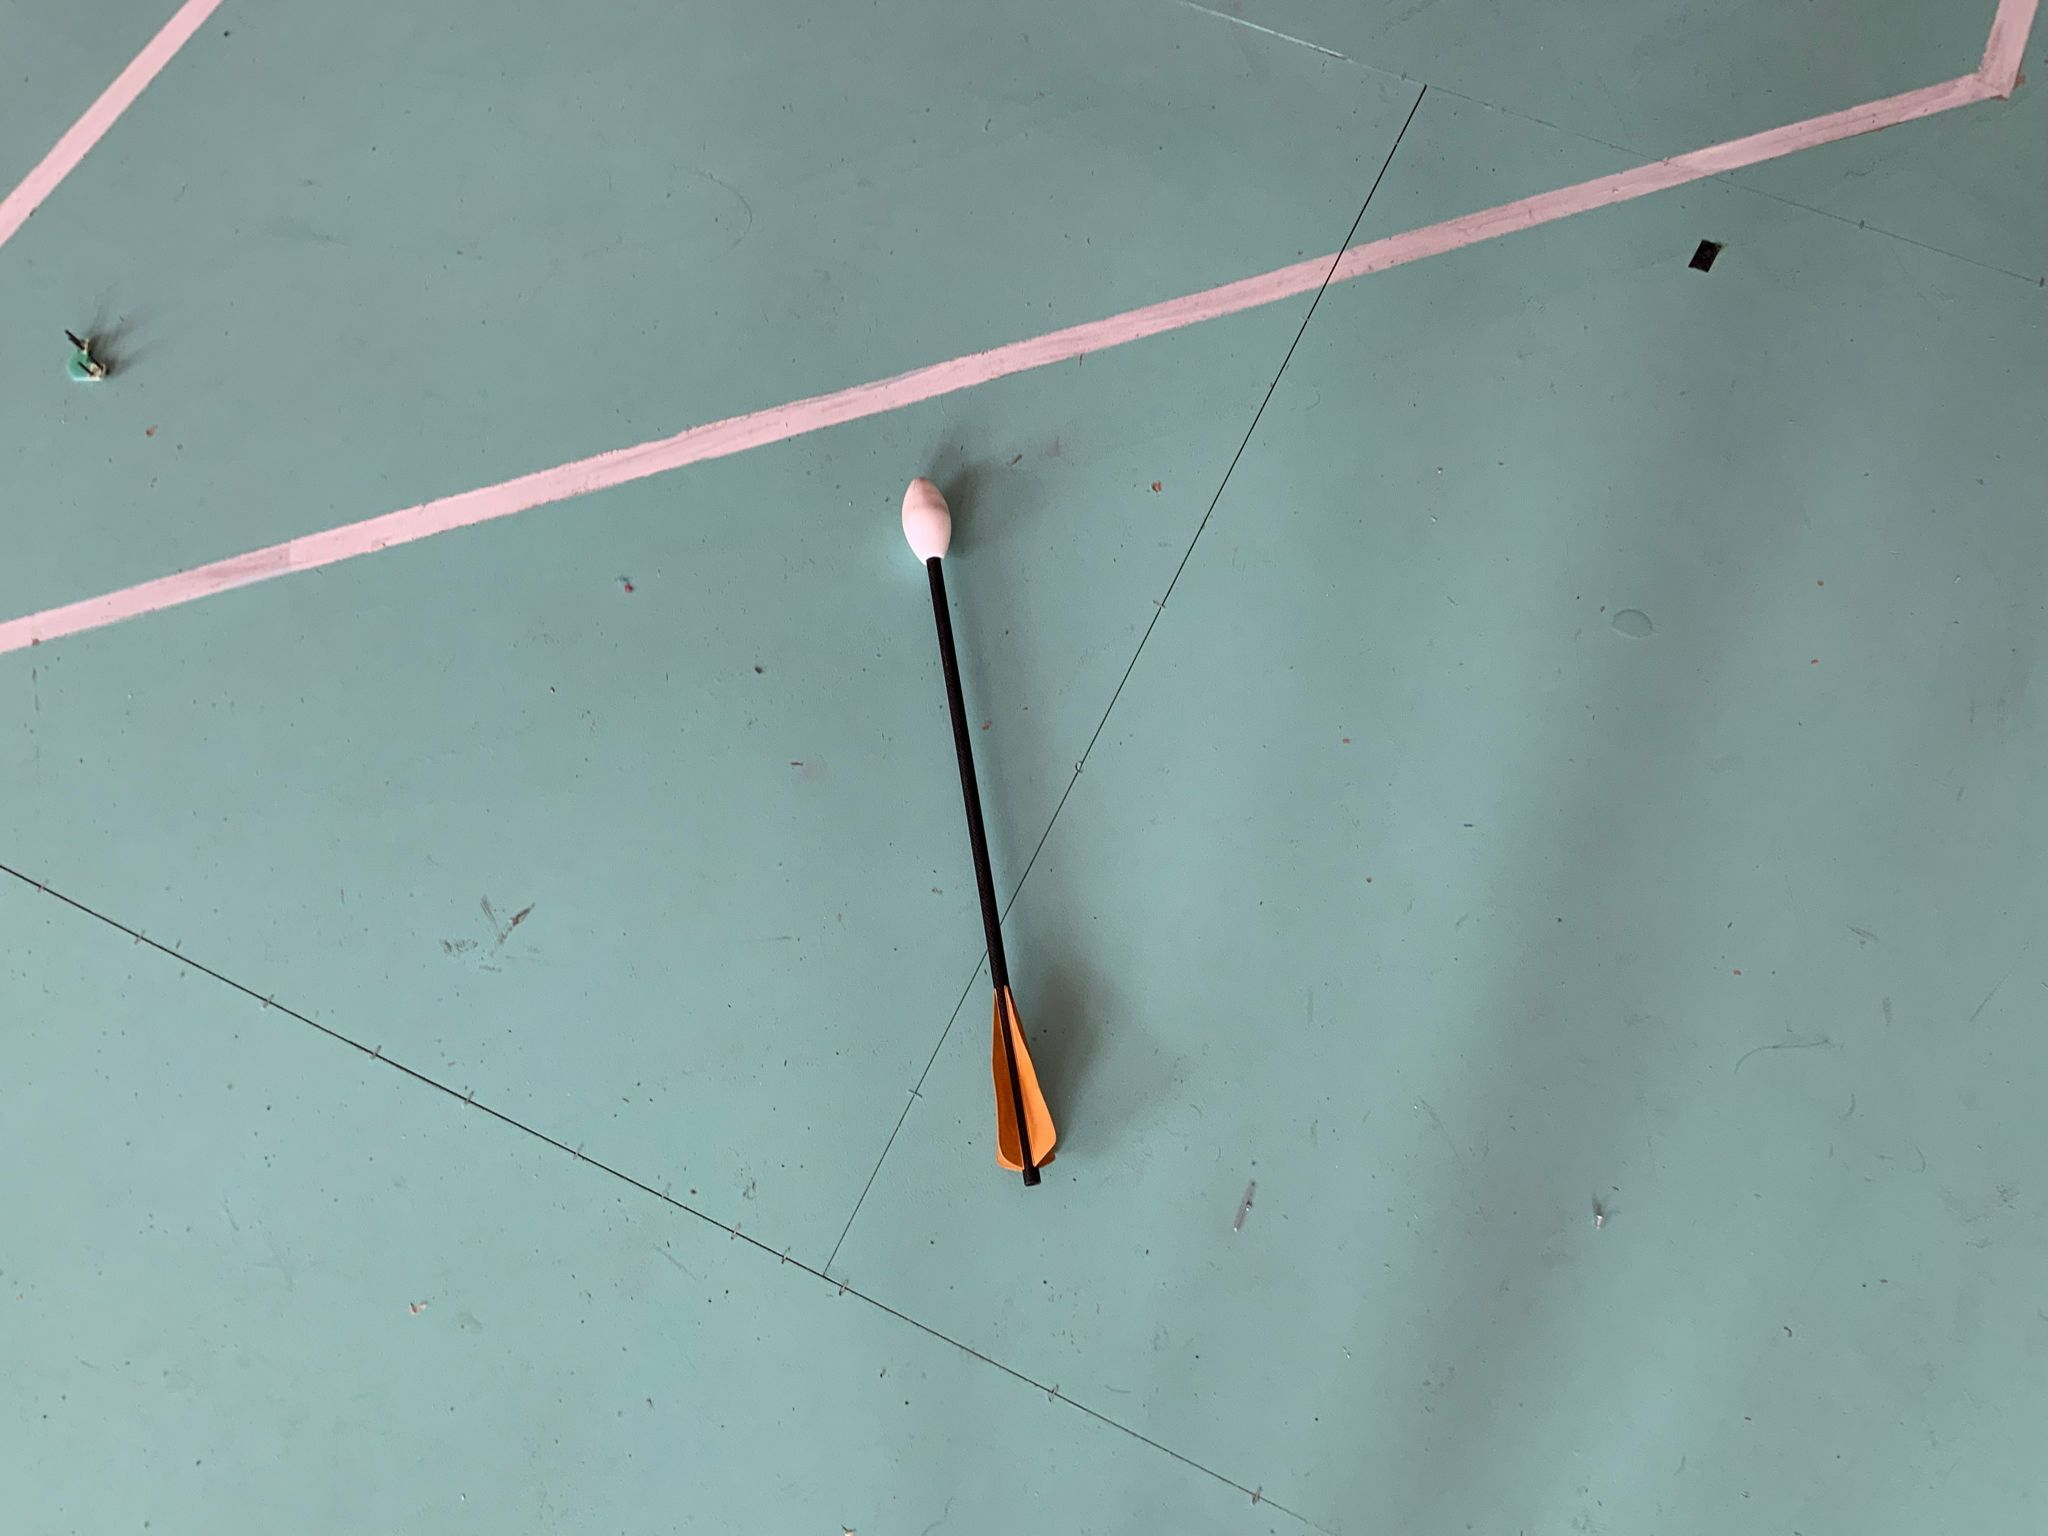arrow: (900, 479, 1064, 1187)
arrowFront: (897, 474, 953, 566)
